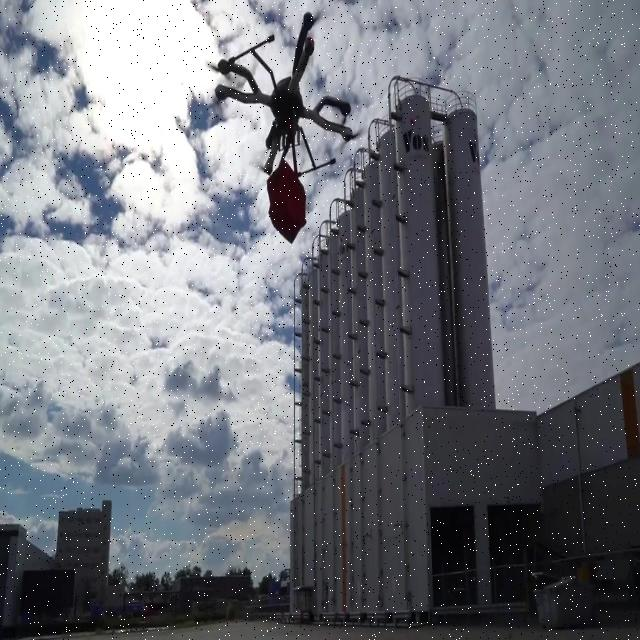UAV: (206, 10, 364, 178)
